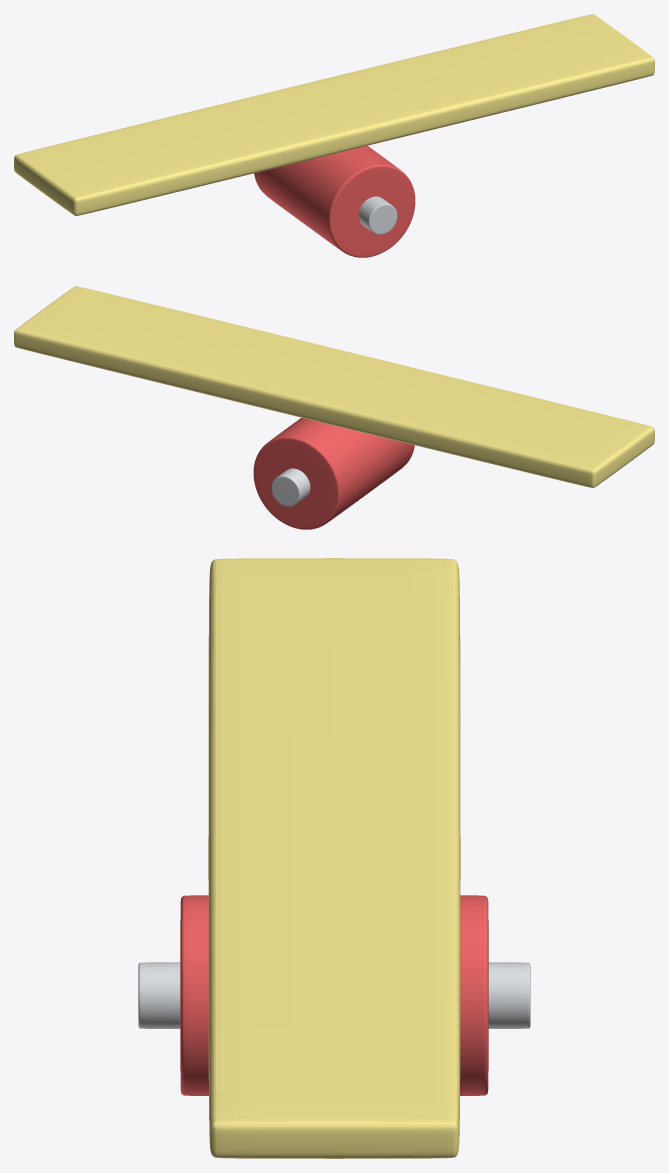
File: Toy_Seesaw_Hi.fbx
The picture shows the model from 3 angles, top to bottom: view 1: azimuth 30°, elevation 25°; view 2: azimuth 150°, elevation 25°; view 3: azimuth 270°, elevation 25°; orthographic projection. The views are drawn at different scales.
Parts seen in each view (by area): view 1: Cube, Cylinder, Cylinder.001; view 2: Cube, Cylinder, Cylinder.001; view 3: Cube, Cylinder, Cylinder.001.
Boxes of the visible parts, x1,y1,x2,y2 form: Cube: [14, 14, 654, 215]; Cylinder: [254, 145, 415, 257]; Cylinder.001: [358, 196, 397, 234]; Cube: [14, 286, 654, 487]; Cylinder: [253, 417, 414, 529]; Cylinder.001: [271, 468, 310, 506]; Cube: [208, 558, 460, 1158]; Cylinder: [180, 895, 488, 1095]; Cylinder.001: [138, 962, 530, 1028].
Size of the model in its own units: 2.4 by 0.4892 by 0.7.
